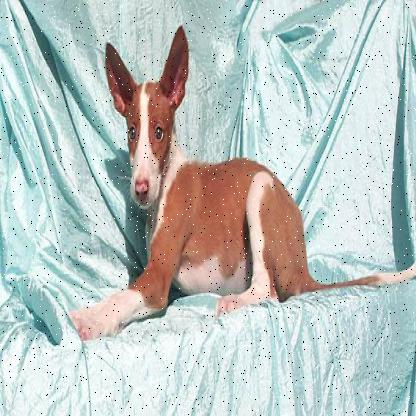dog: (77, 14, 407, 320)
